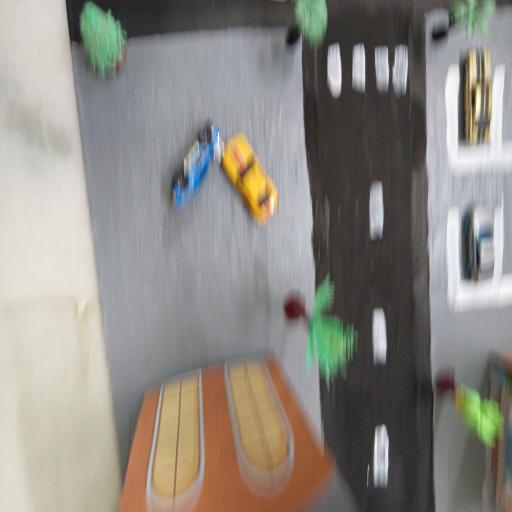car crash: (168, 118, 279, 224)
